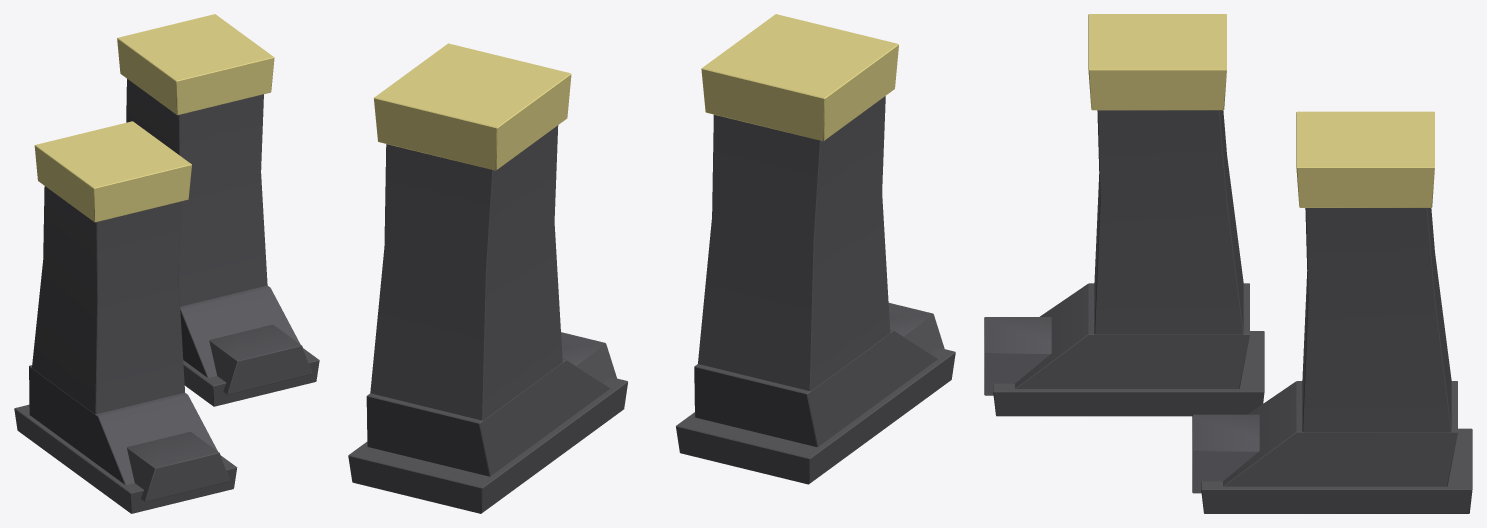
Rendered from IT_boots_rubber.fbx.
3 views of the same model, side by side, from view 1: azimuth 30°, elevation 25°; view 2: azimuth 150°, elevation 25°; view 3: azimuth 270°, elevation 25° (orthographic). The views are drawn at different scales.
Visible parts, largest first — view 1: IT_boots_rubber; view 2: IT_boots_rubber; view 3: IT_boots_rubber.
Part boxes in pixels (x1,y1,x2,y2): IT_boots_rubber: (14,14,319,513); IT_boots_rubber: (348,14,955,513); IT_boots_rubber: (984,14,1472,513).
Bounding box in the file's own units: 0.6498 × 0.66 × 0.8449.
